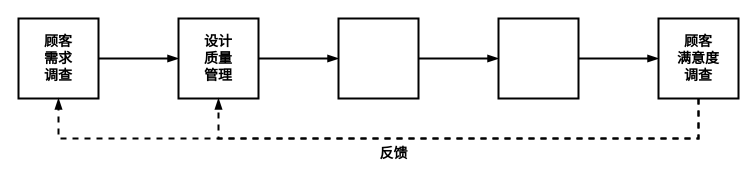
The diagram is 756 pixels wide and 185 high, and some of its shapes have lost their labels. Here are the shapes that lost their labels. From the top down, the box of each, then its label:
(337, 17, 419, 99): 过程 质量 管理
(497, 17, 579, 99): 验收 抽样 管理
